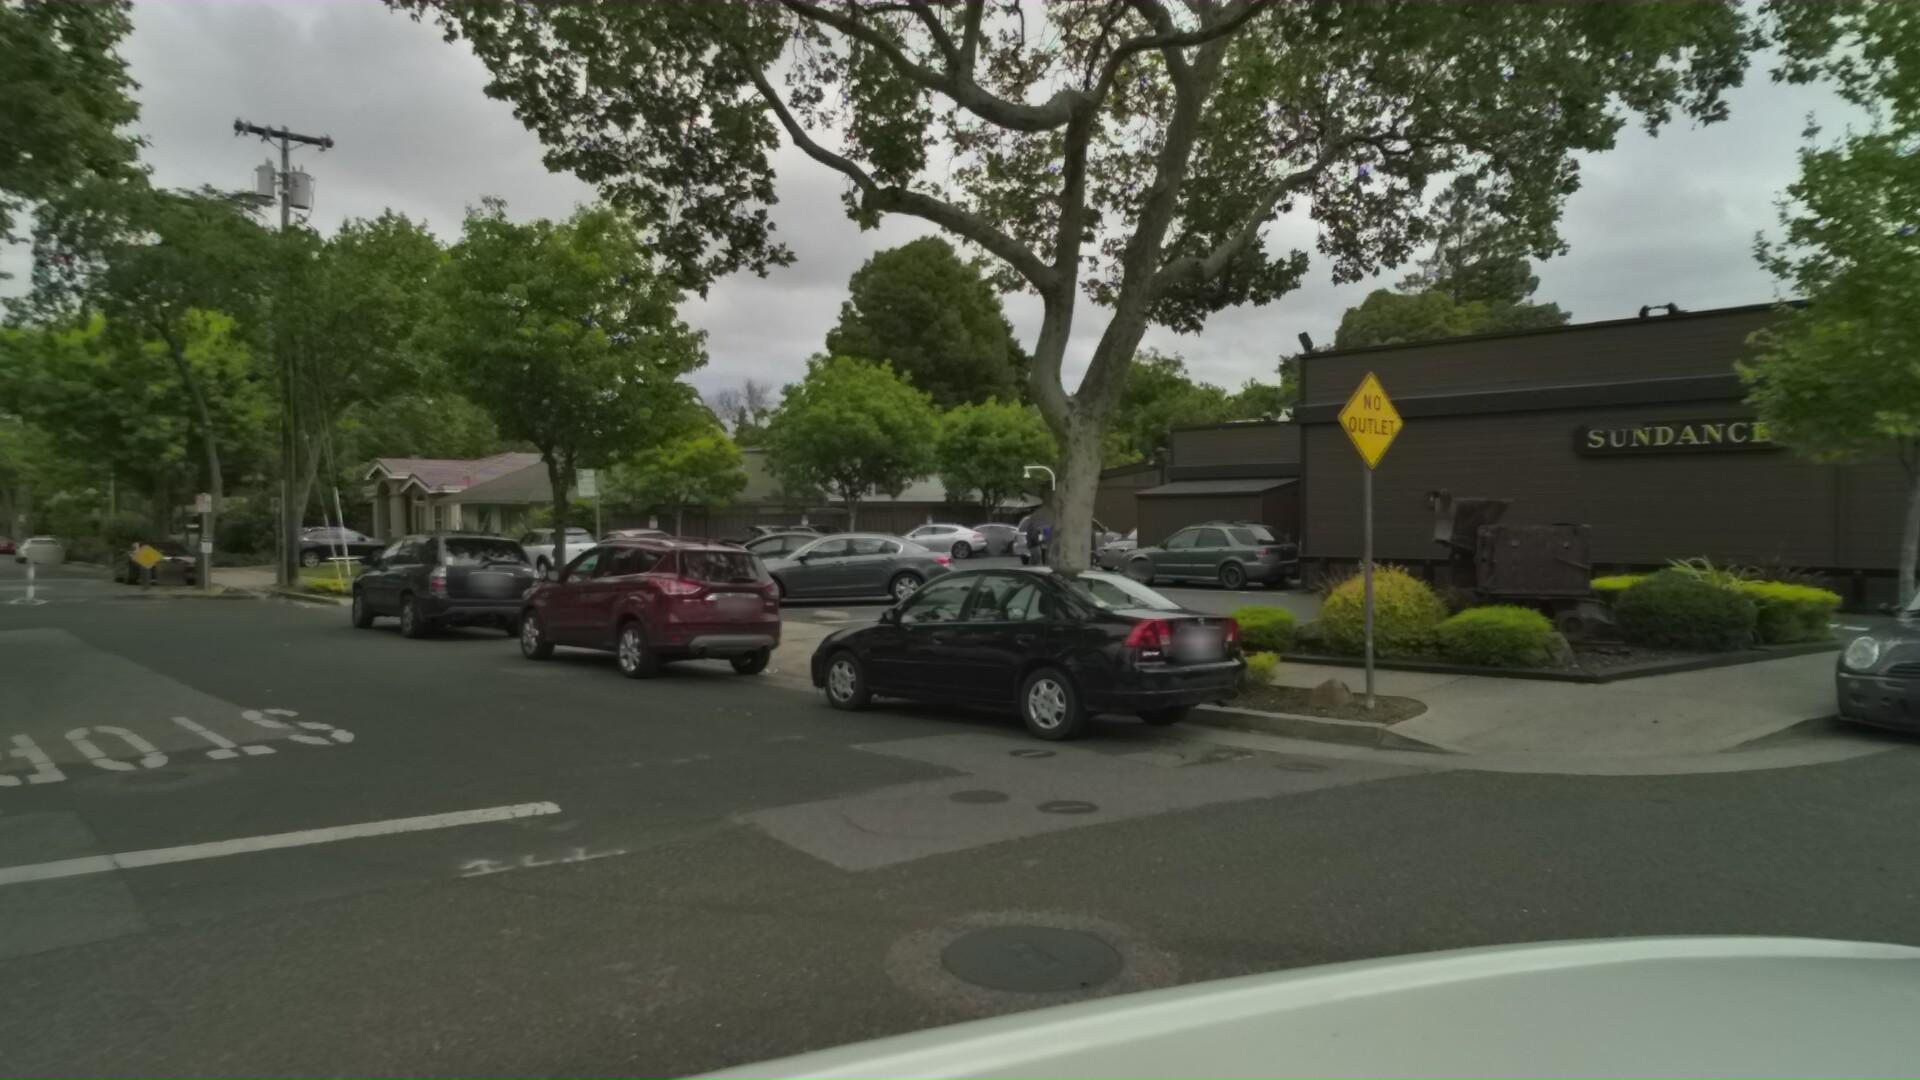car: (835, 545, 1327, 785), (541, 525, 858, 700), (1803, 527, 1920, 781), (372, 524, 599, 651), (732, 524, 994, 609), (679, 520, 916, 601), (513, 521, 632, 582), (592, 521, 713, 578), (285, 520, 415, 566), (128, 535, 225, 588), (150, 518, 241, 546), (28, 529, 83, 564)
